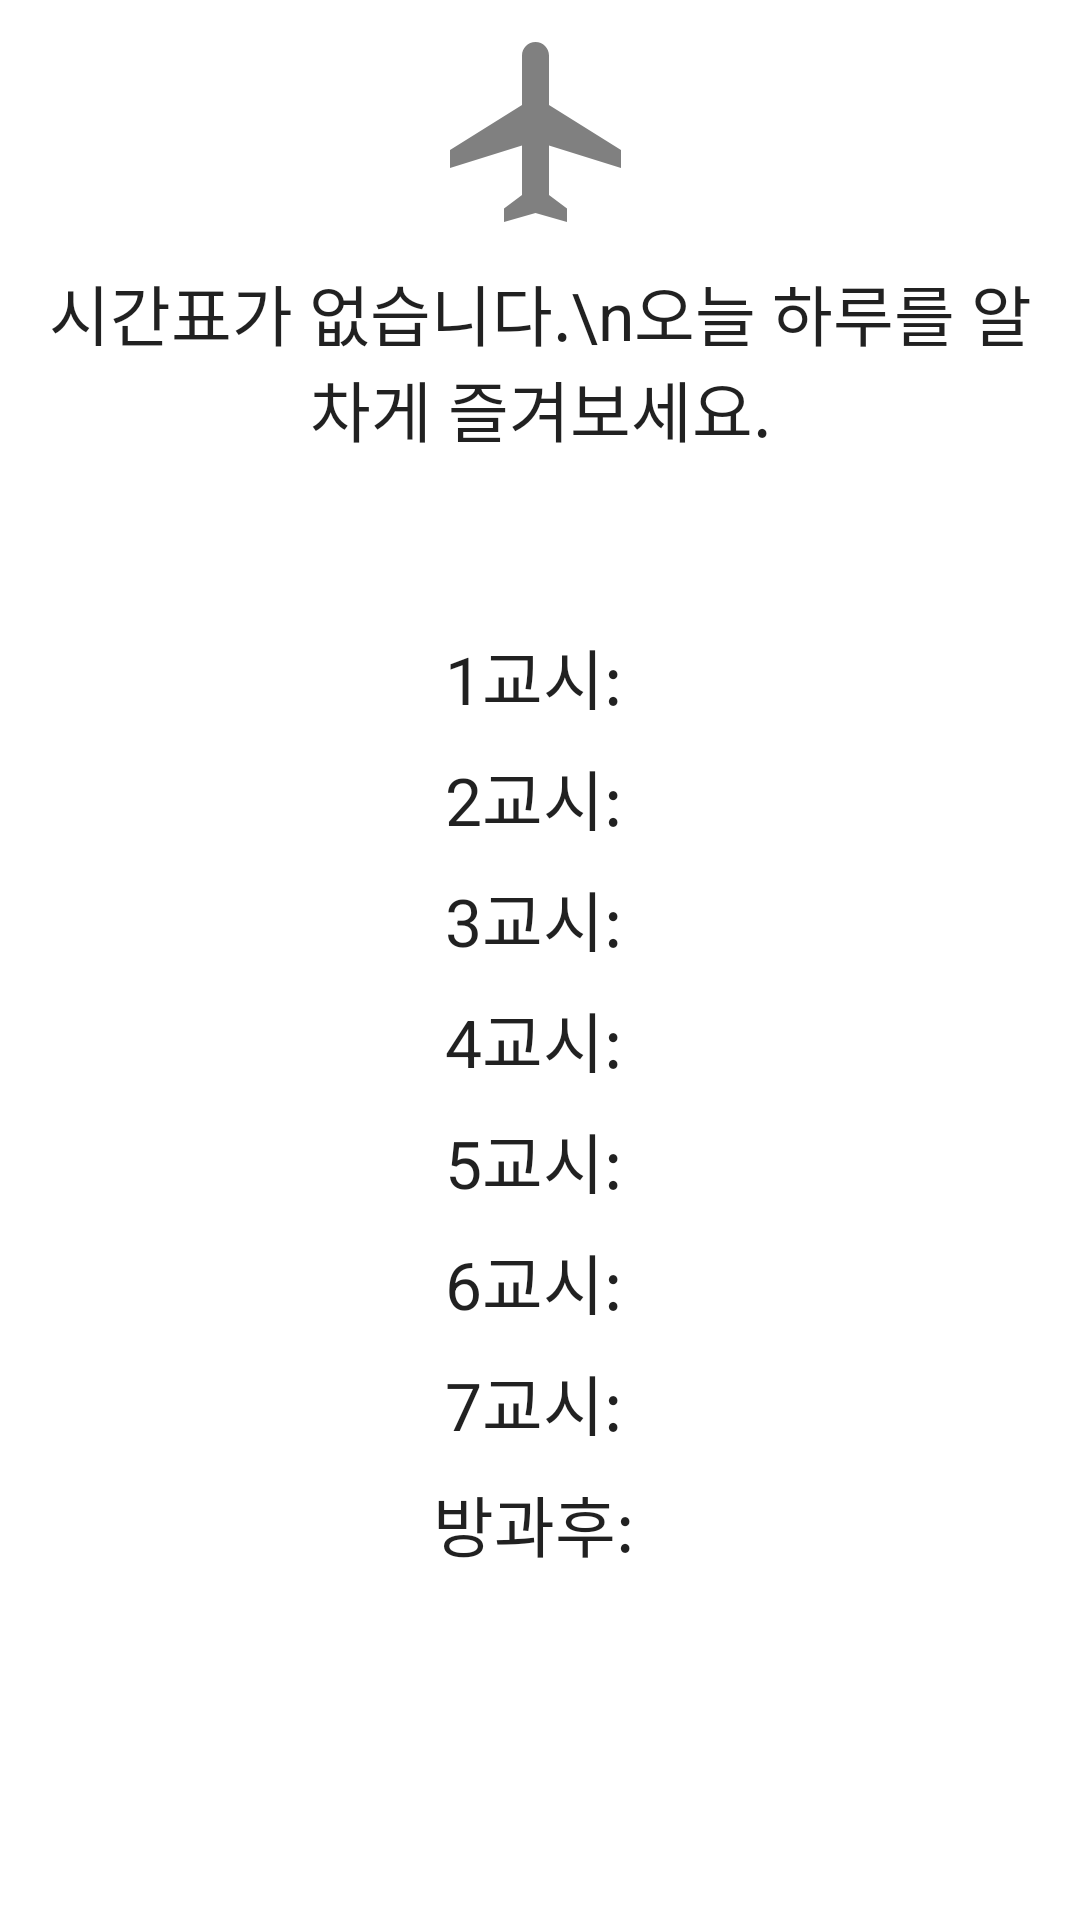

Icons on this 1080w x 1920h Android screen, each with its box as (x1, y1, x2, y2):
airplane: (450, 42, 621, 222)
